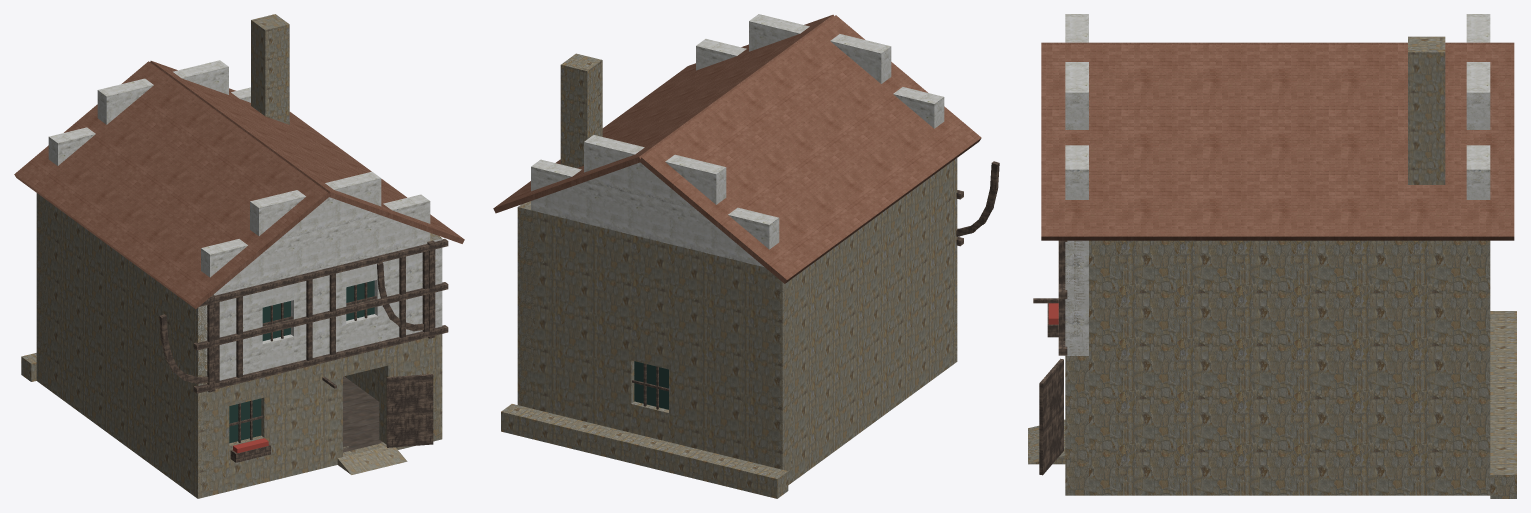
File: prop_hk_house_f.glb
The picture shows the model from 3 angles, left to right: view 1: azimuth 30°, elevation 25°; view 2: azimuth 150°, elevation 25°; view 3: azimuth 270°, elevation 25°; orthographic projection. The views are drawn at different scales.
Visible parts, largest first — view 1: building_hk_rowhouse_f; view 2: building_hk_rowhouse_f; view 3: building_hk_rowhouse_f.
Boxes of the visible parts, box(x1,y1,x2,y2) form: building_hk_rowhouse_f: box(14, 14, 464, 498); building_hk_rowhouse_f: box(493, 14, 999, 498); building_hk_rowhouse_f: box(1028, 14, 1516, 498).
Size of the model in its own units: 8.46 by 8.9 by 9.2.
7 materials, 7 textured.
